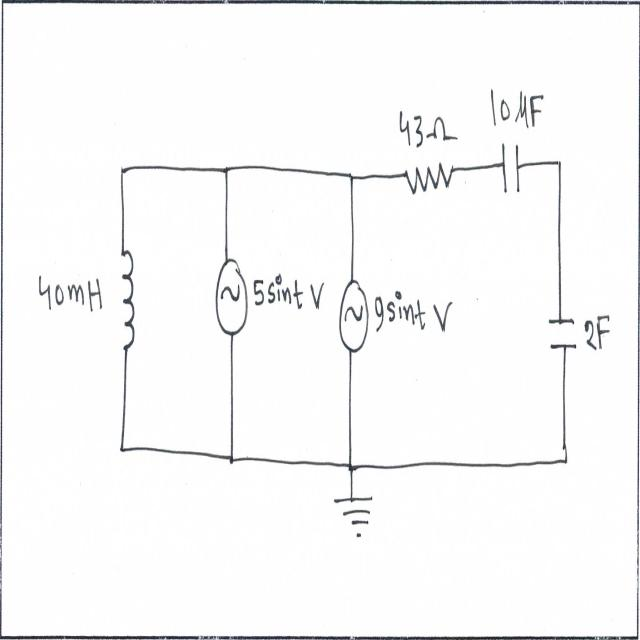ac_current: (211, 248, 250, 346), (337, 276, 368, 362)
capacitor: (542, 311, 584, 356), (498, 137, 524, 201)
ground: (332, 490, 378, 541)
inductor: (114, 236, 139, 362)
resistor: (398, 155, 456, 206)
